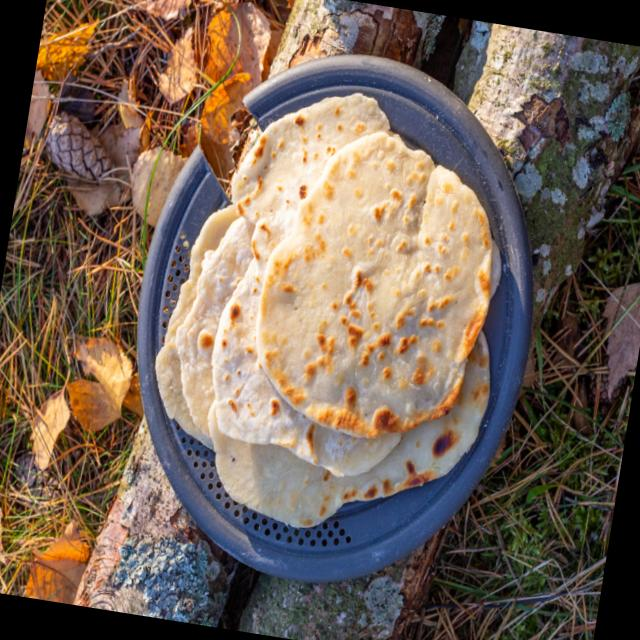roti: (262, 135, 494, 439)
